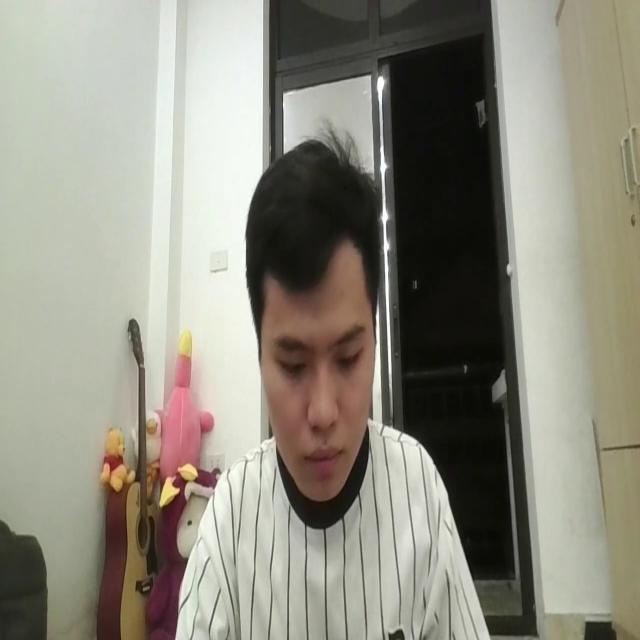student: (176, 130, 488, 640)
